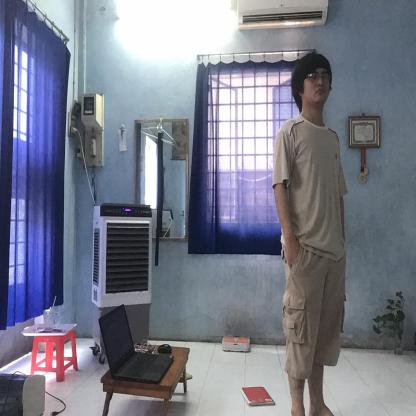person: (268, 52, 350, 416)
